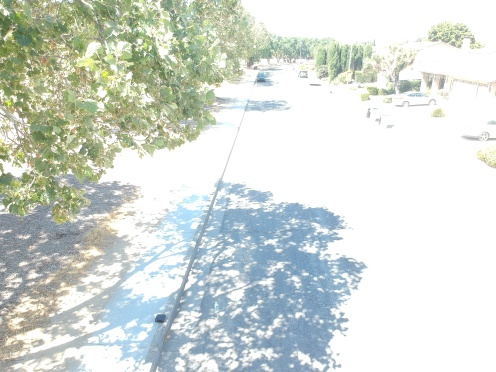bottle: (209, 299, 221, 314)
